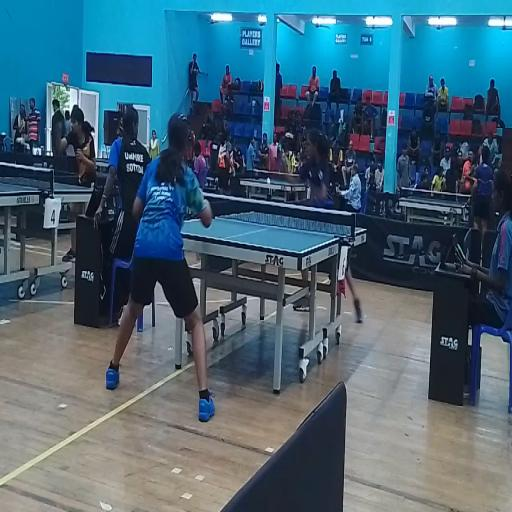ball: (266, 177, 271, 187)
